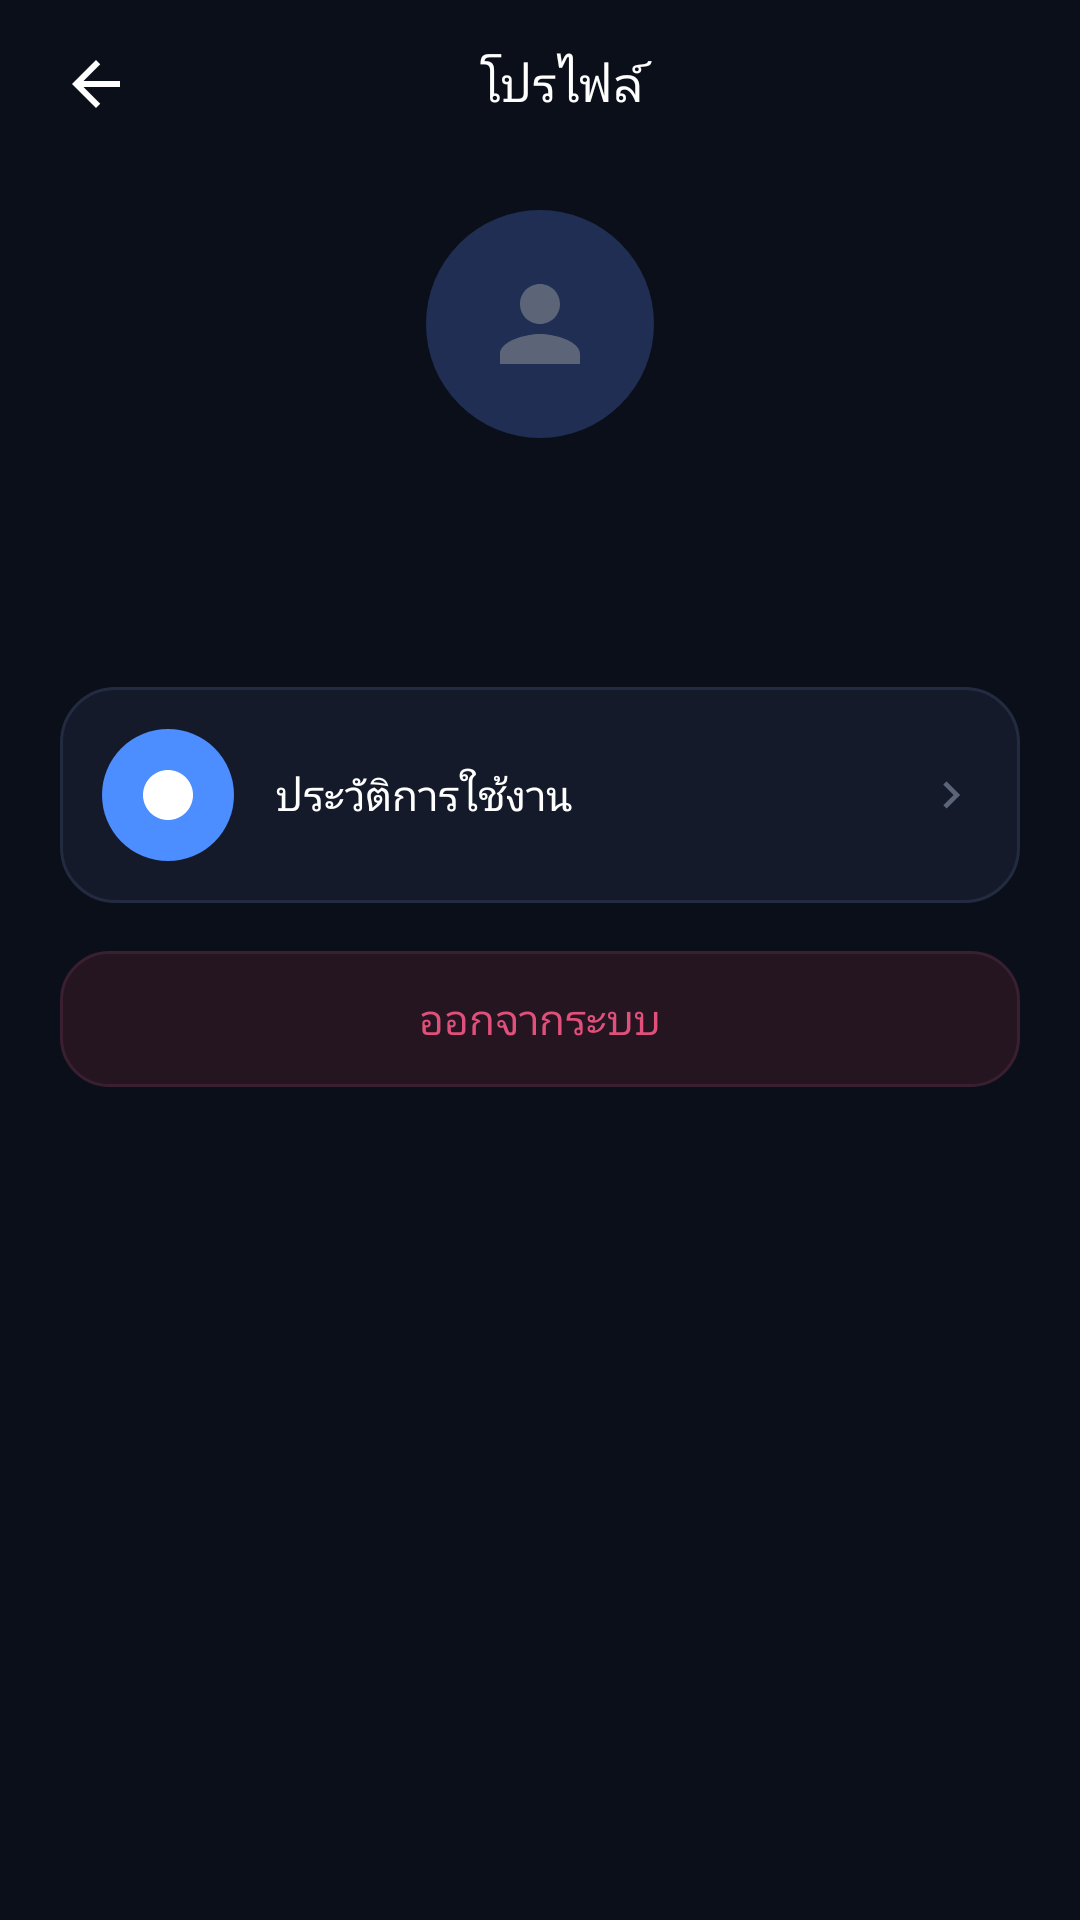

Where icons sit on this 1080×1920 app screen, as bbox(x1, y1, x2, y2):
arrow right: bbox(943, 781, 960, 808)
back: bbox(72, 60, 120, 108)
profile: bbox(426, 210, 654, 438)
